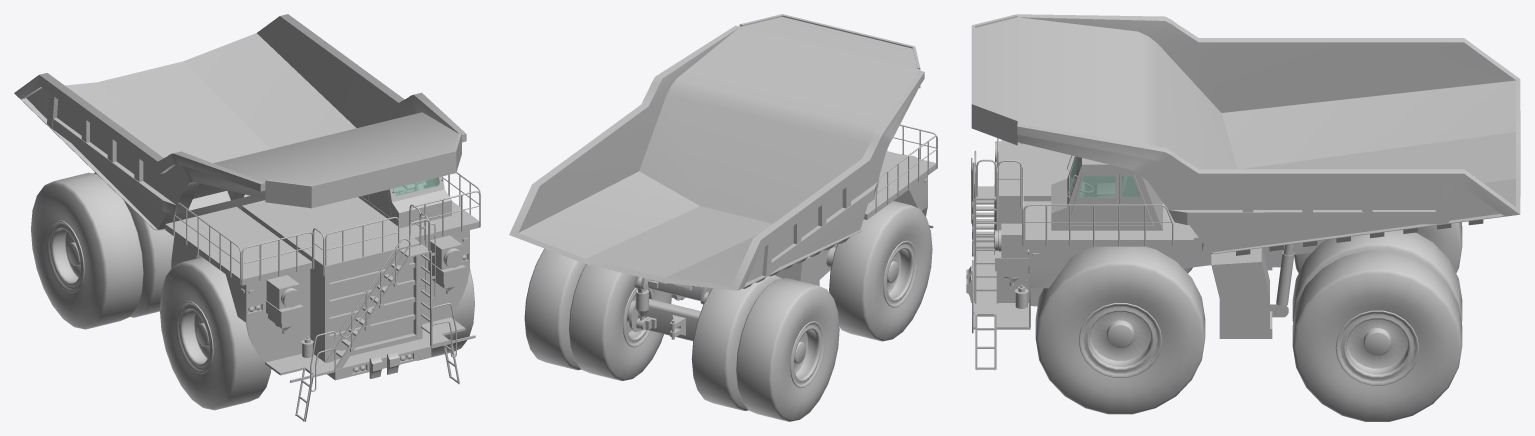
3 views of the same model, side by side, from view 1: azimuth 30°, elevation 25°; view 2: azimuth 150°, elevation 25°; view 3: azimuth 270°, elevation 25° (orthographic). The views are drawn at different scales.
Visible parts, largest first — view 1: Industrial_009; view 2: Industrial_009; view 3: Industrial_009.
Boxes of the visible parts, x1=… form: Industrial_009: x1=14, y1=14, x2=480, y2=421; Industrial_009: x1=509, y1=14, x2=937, y2=421; Industrial_009: x1=966, y1=14, x2=1520, y2=421.
Size of the model in its own units: 271 by 239 by 421.
